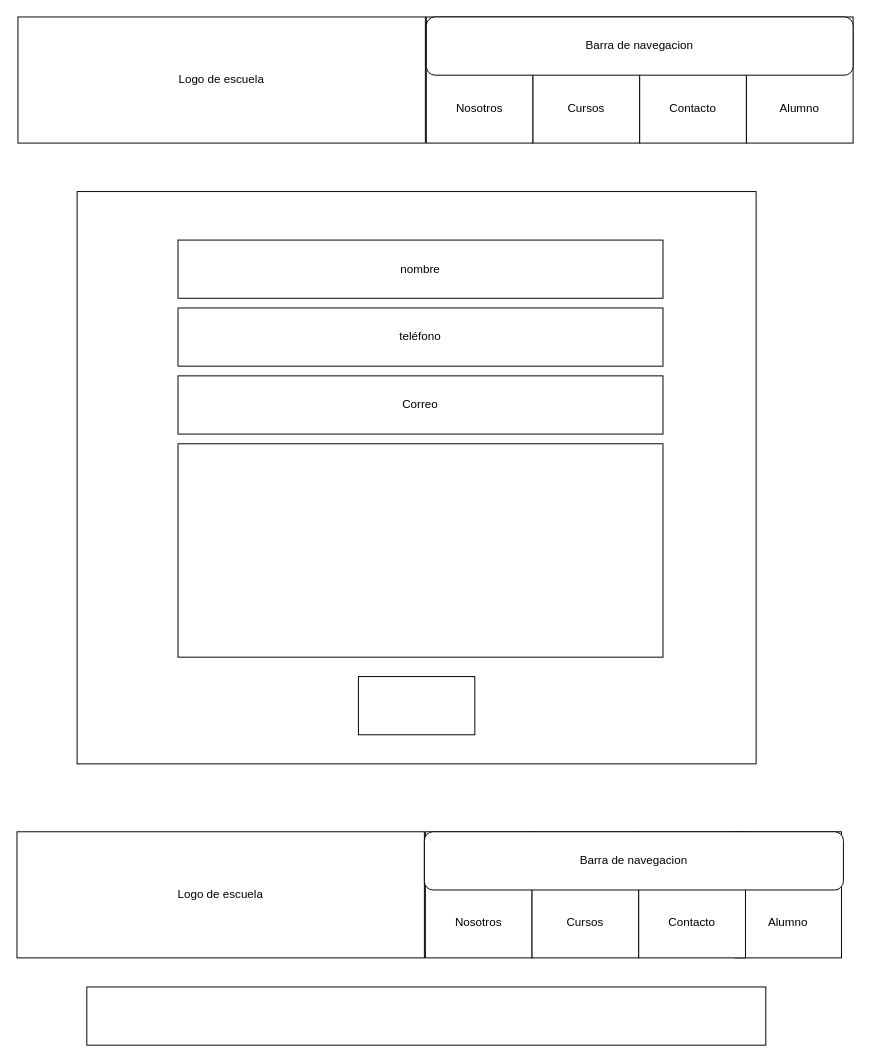
Image size: 870x1062. Some labels were removed from this diagram. The shapes that lost their labels are listed below. From the top down, each one's centre as x and y in pixels, then its label:
pixel 420 550: Mensaje
pixel 416 705: Enviar
pixel 426 1015: redes sociales
